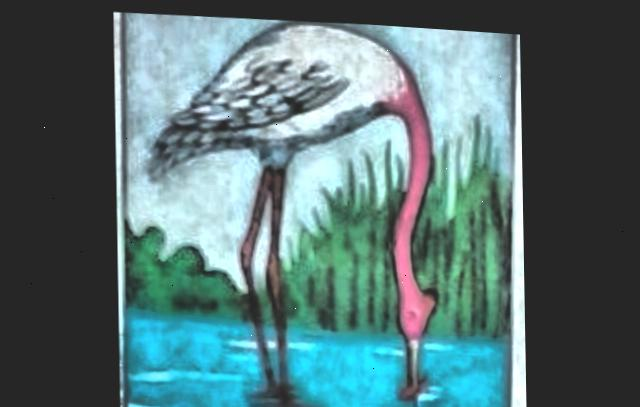El Garza: (116, 6, 509, 407)
